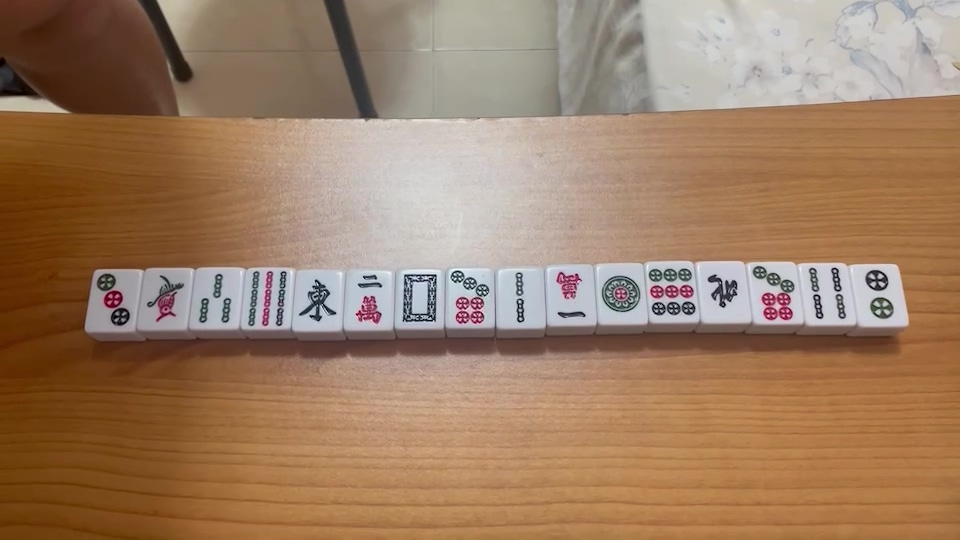b-1: (141, 273, 189, 323)
b-2: (502, 271, 535, 325)
b-3: (195, 272, 234, 328)
b-4: (804, 265, 851, 320)
b-9: (244, 268, 293, 328)
c-1: (551, 271, 589, 320)
c-2: (350, 274, 386, 325)
d-1: (599, 272, 642, 316)
d-2: (861, 268, 900, 320)
d-3: (93, 273, 132, 327)
d-7: (749, 264, 797, 323), (448, 269, 492, 328)
d-9: (647, 266, 696, 317)
honors-east: (299, 278, 339, 327)
honors-north: (701, 270, 742, 311)
honors-white: (399, 273, 440, 324)
